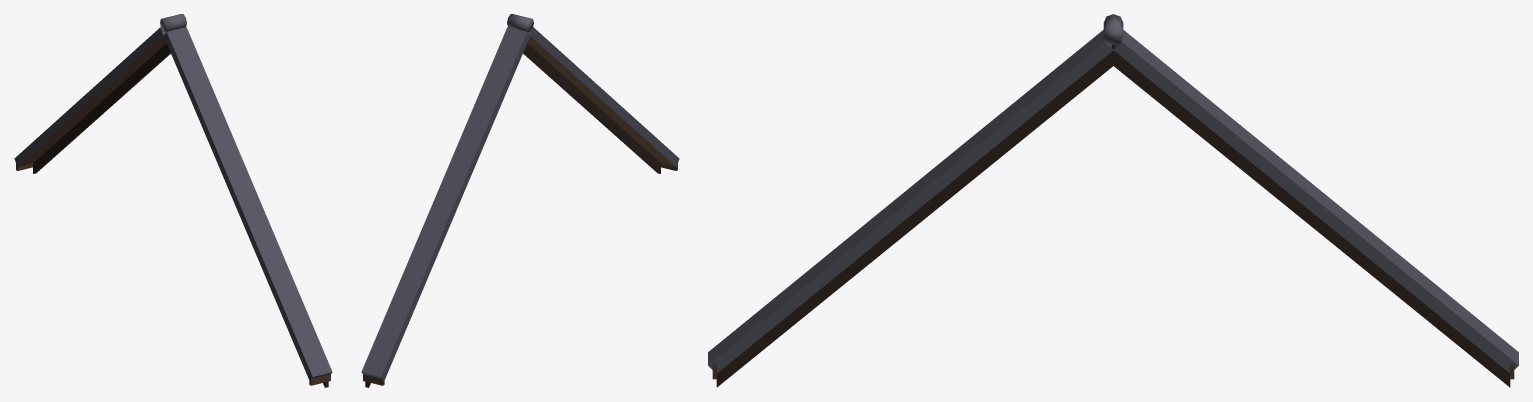
The model's file is kit_timber_slate_w5_end.glb.
3 renders of one model, left to right at view 1: azimuth 30°, elevation 25°; view 2: azimuth 150°, elevation 25°; view 3: azimuth 270°, elevation 25°, orthographic. The views are drawn at different scales.
Parts seen in each view (by area): view 1: kit_timber_slate_w5_end; view 2: kit_timber_slate_w5_end; view 3: kit_timber_slate_w5_end.
Boxes of the visible parts, x1,y1,x2,y2 form: kit_timber_slate_w5_end: [14, 14, 332, 387]; kit_timber_slate_w5_end: [361, 14, 679, 387]; kit_timber_slate_w5_end: [708, 14, 1518, 387].
Bounding box in the file's own units: 0.22 × 2.81 × 5.72.
